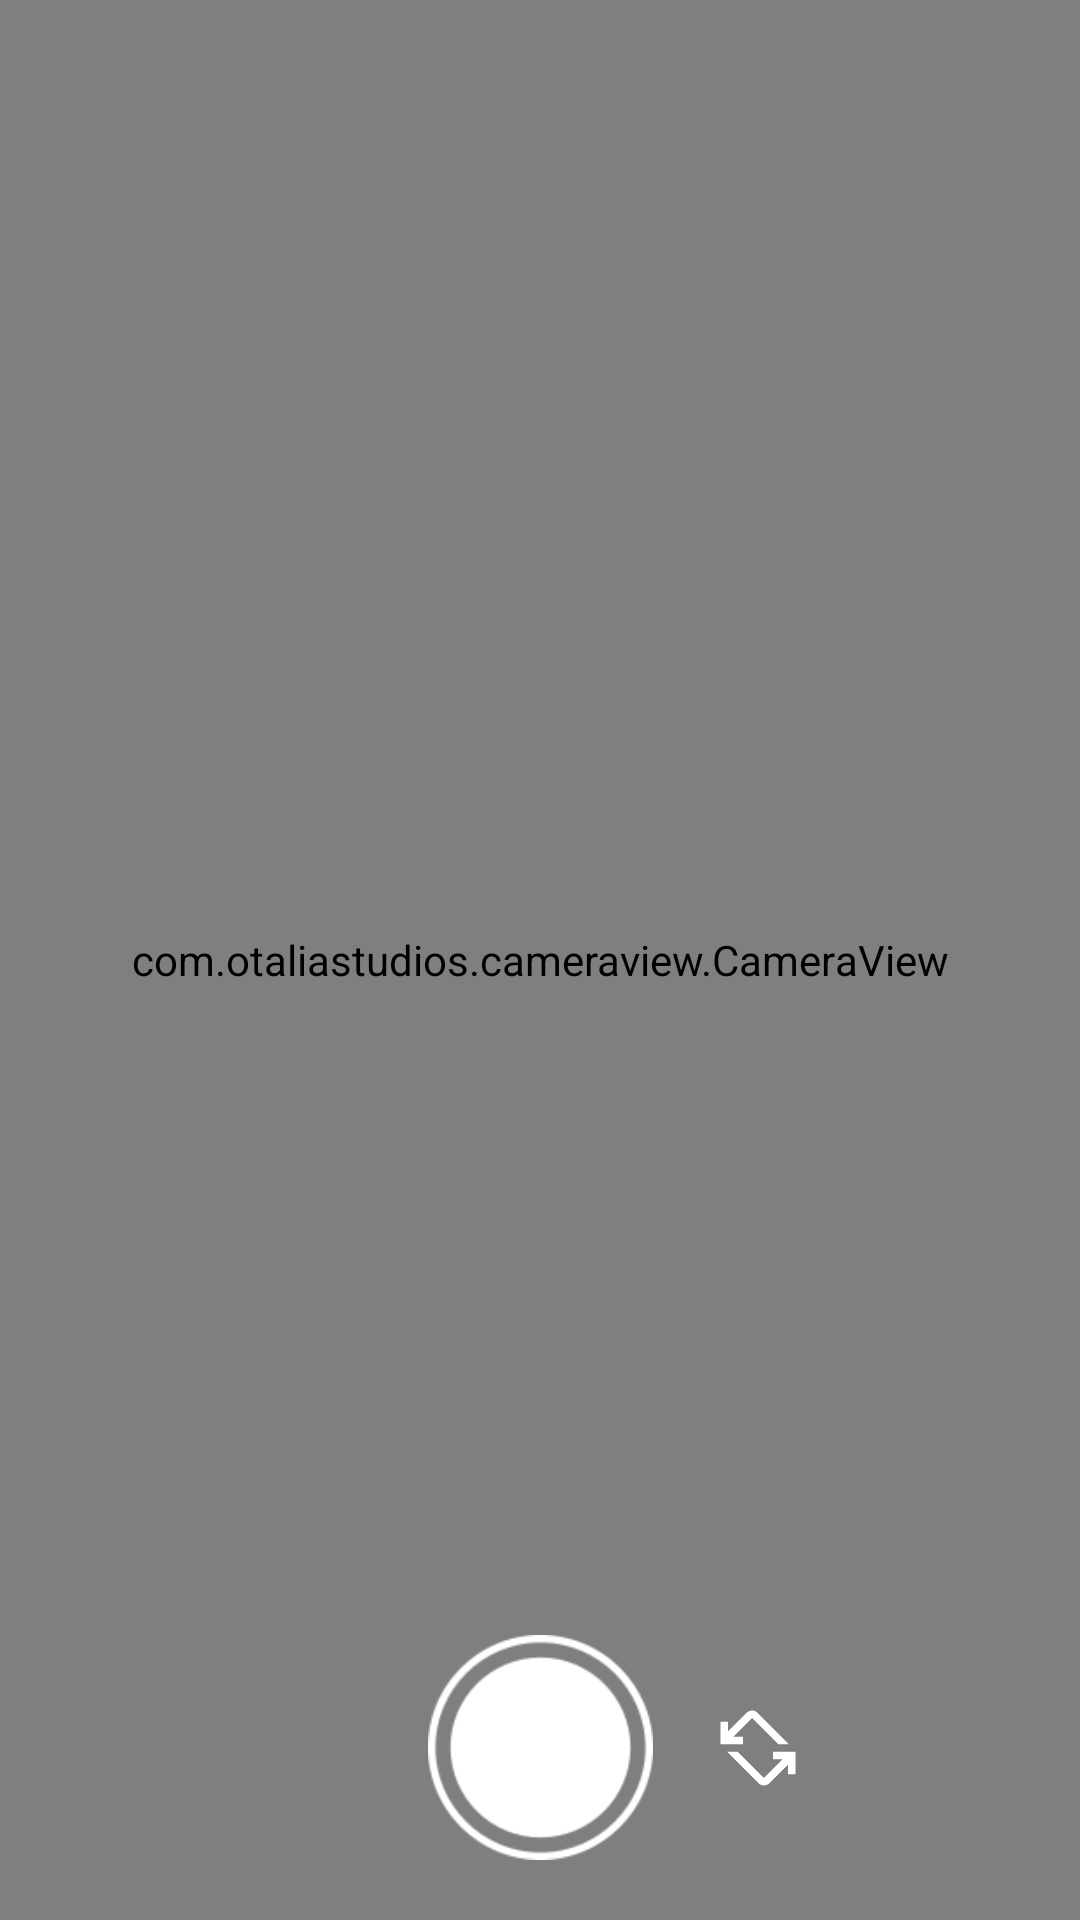

Icons on this 1080*1920 Android screen, each with the point to tap as (x=x, y=y):
rec: (x=540, y=1747)
rotation: (x=758, y=1748)
